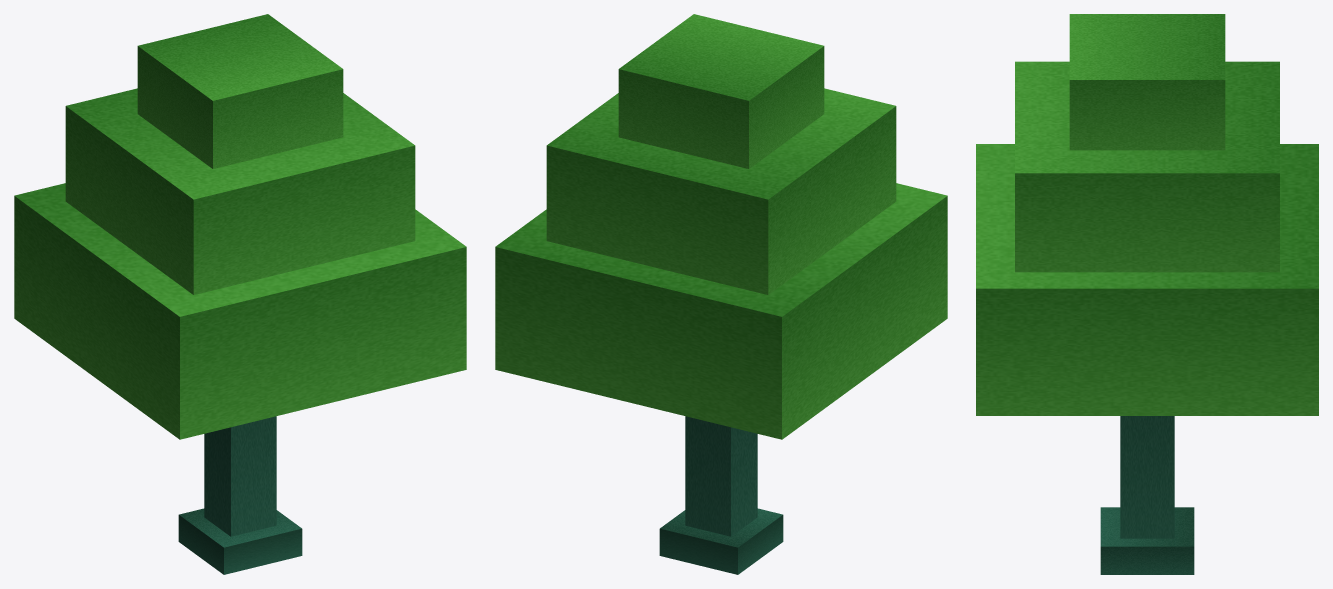
The model's file is tree_oak.gltf.
3 views of the same model, side by side, from view 1: azimuth 30°, elevation 25°; view 2: azimuth 150°, elevation 25°; view 3: azimuth 270°, elevation 25° (orthographic). The views are drawn at different scales.
Visible parts, largest first — view 1: tree_oak; view 2: tree_oak; view 3: tree_oak.
Boxes of the visible parts, x1,y1,x2,y2 form: tree_oak: (14, 14, 466, 574); tree_oak: (495, 14, 947, 574); tree_oak: (976, 14, 1318, 574).
Bounding box in the file's own units: 4.4 × 7.2 × 4.4.
Materials: 1 (1 with a texture image).
